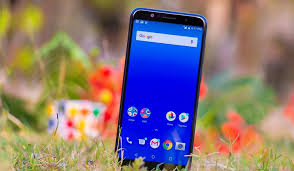asus: (111, 4, 209, 171)
